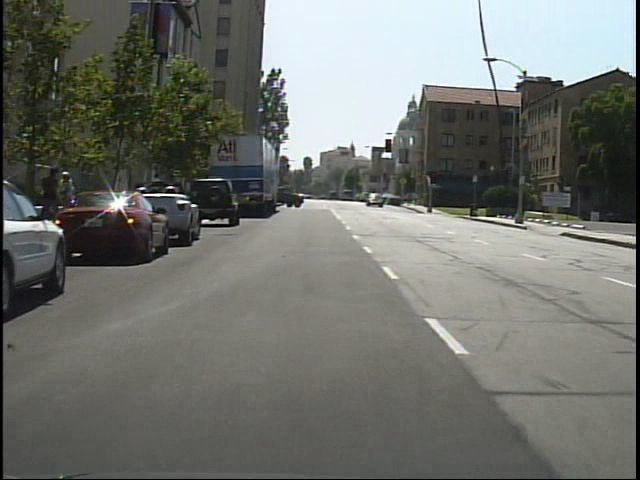person: (40, 164, 69, 237), (57, 170, 83, 225)
